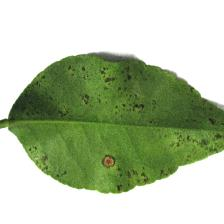canker: (53, 64, 199, 181)
